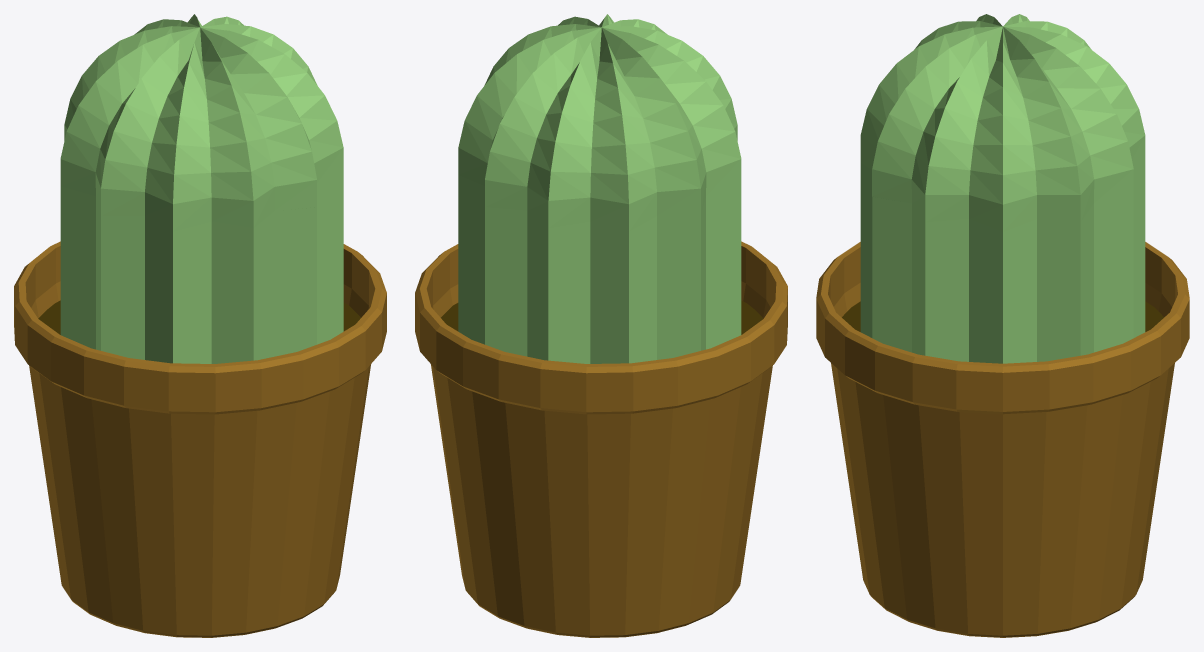
File: Tall_Cactus.fbx
3 renders of one model, left to right at view 1: azimuth 30°, elevation 25°; view 2: azimuth 150°, elevation 25°; view 3: azimuth 270°, elevation 25°, orthographic.
Visible parts, largest first — view 1: Ceramic_Pot1; view 2: Ceramic_Pot1; view 3: Ceramic_Pot1.
Boxes of the visible parts, box(x1,y1,x2,y2) form: Ceramic_Pot1: box(14, 14, 386, 637); Ceramic_Pot1: box(415, 14, 787, 637); Ceramic_Pot1: box(816, 14, 1189, 637).
Bounding box in the file's own units: 3.99 × 6.55 × 4.
